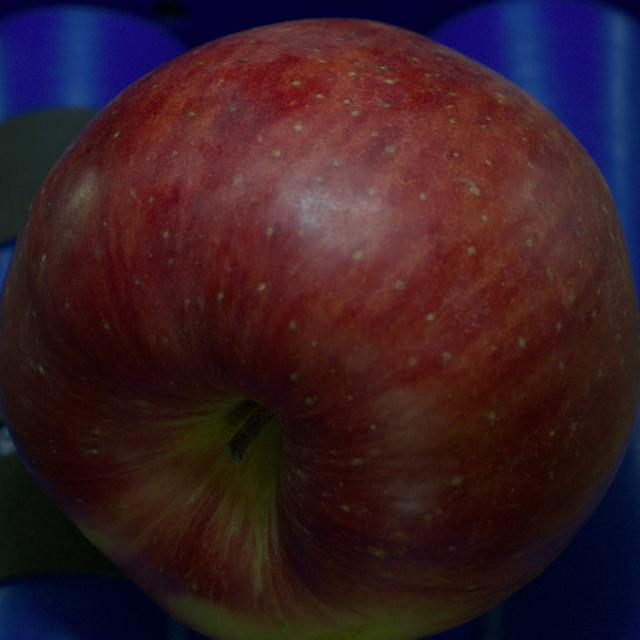apple: (0, 19, 639, 639)
